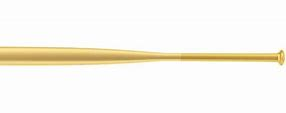bat: (1, 45, 286, 69)
